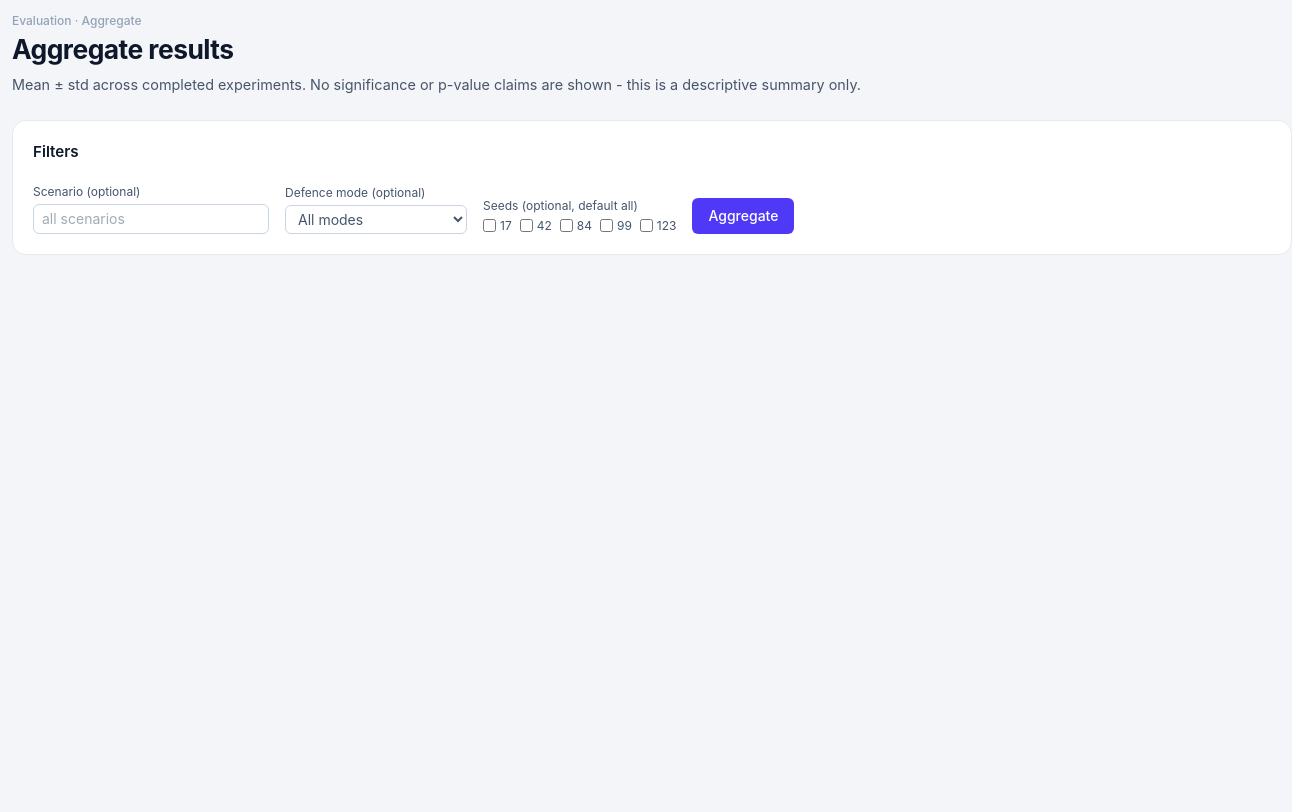
Test: Aggregate view › renders a labeled scope, mean ± std, and flags small samples without significance claims
The image size is (1292, 812).
Click the button "Aggregate". click: (744, 216)
box: [692,198,794,234]
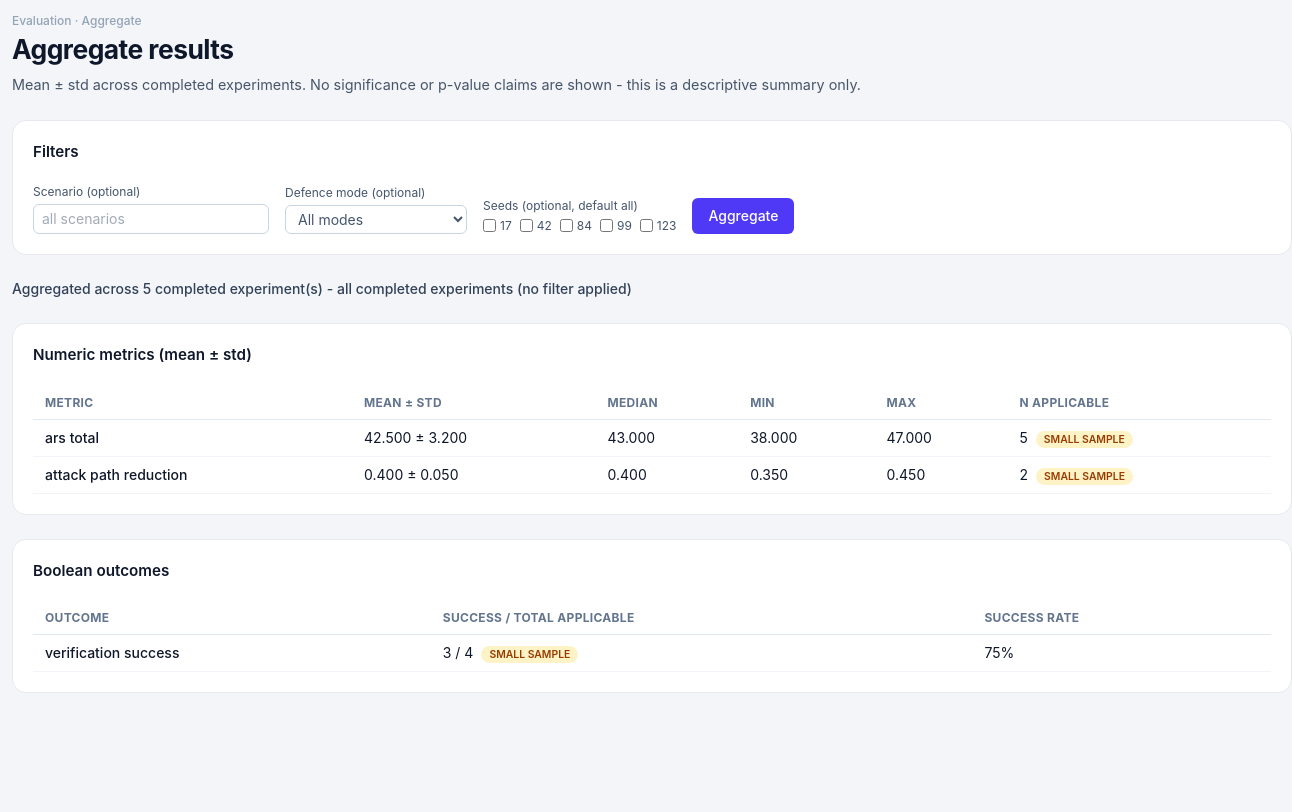
Now the text "Aggregated across 5 completed experiment" is shown, box [12,280,632,297]
Now the text "42.500 ± 3.200" is shown, box [352,419,596,456]
Now the text "small sample" in the row of "ars total" is shown, box [1044,433,1125,446]
